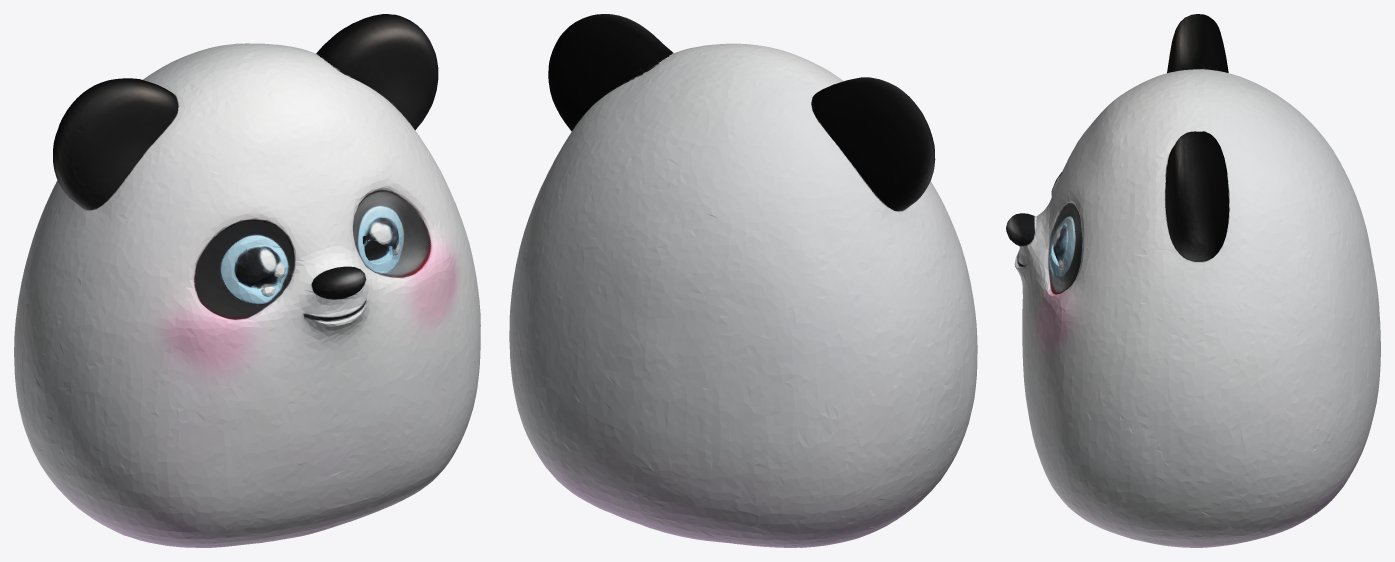
File: char_pangi.glb
3 renders of one model, left to right at view 1: azimuth 30°, elevation 25°; view 2: azimuth 150°, elevation 25°; view 3: azimuth 270°, elevation 25°, orthographic. The views are drawn at different scales.
Parts seen in each view (by area): view 1: world; view 2: world; view 3: world.
Part boxes in pixels (x1=…): world: x1=14, y1=14, x2=480, y2=547; world: x1=509, y1=14, x2=977, y2=547; world: x1=1006, y1=14, x2=1380, y2=547.
Bounding box in the file's own units: 0.9392 × 1 × 0.8018.
Materials: 1 (1 with a texture image).
